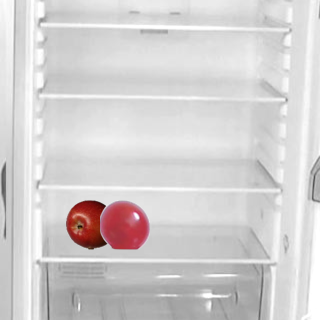Apple Braeburn: (65, 199, 115, 249)
Redcurrant: (99, 199, 149, 249)
